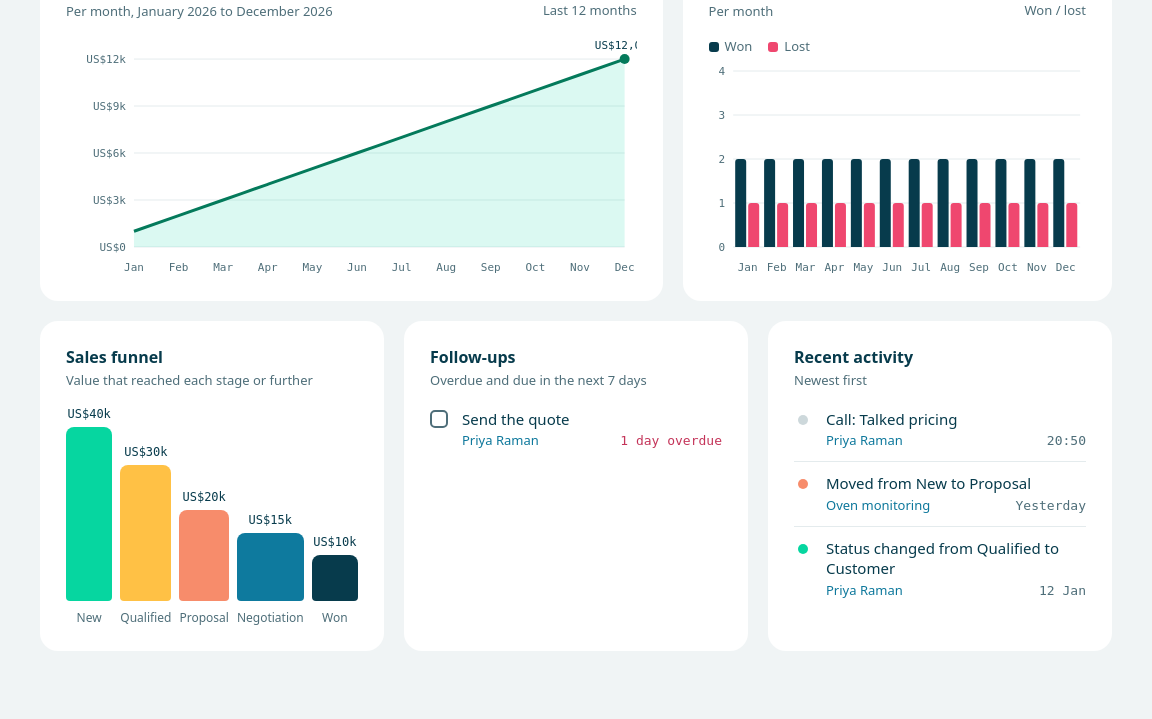
Test: ticking a follow-up marks it done
(page scrolled)
Click the checkbox named "Done: Send the quote".
click(439, 418)  # box [430,410,448,428]
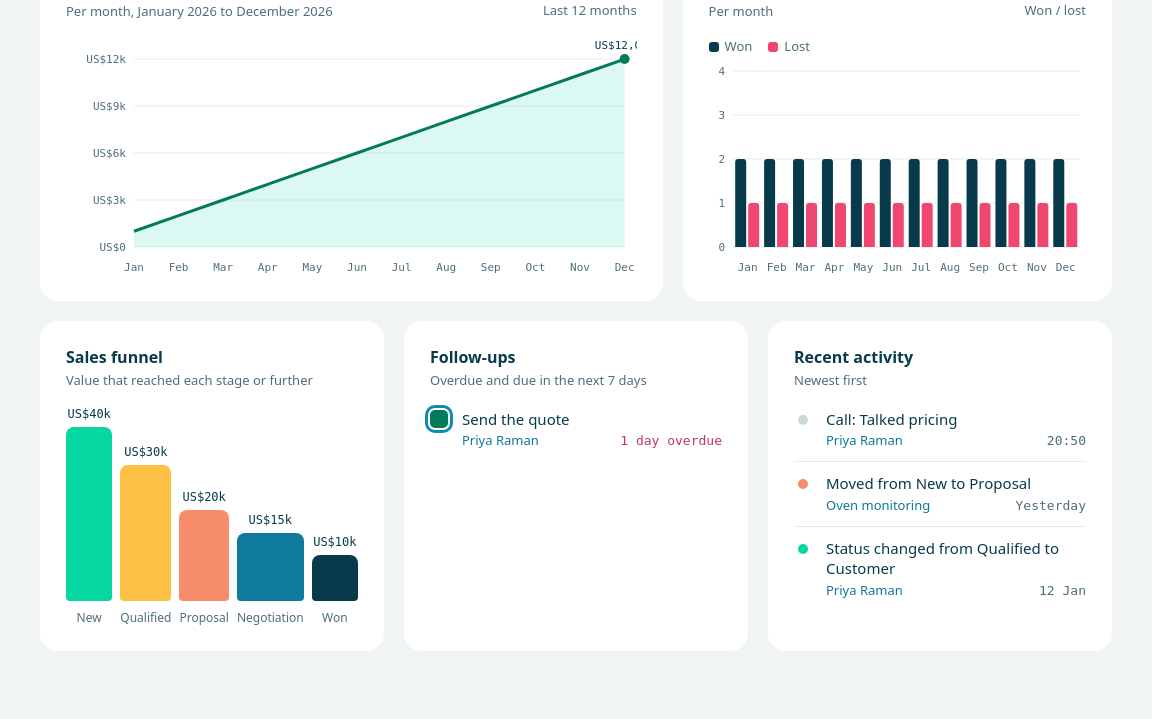
Check: the checkbox named "Send the quote" is checked, box [430,410,448,428]
